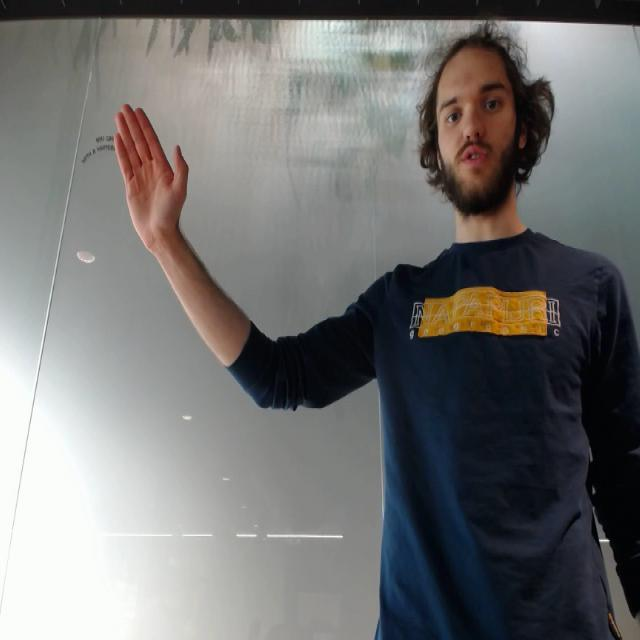backward: (107, 100, 195, 252)
